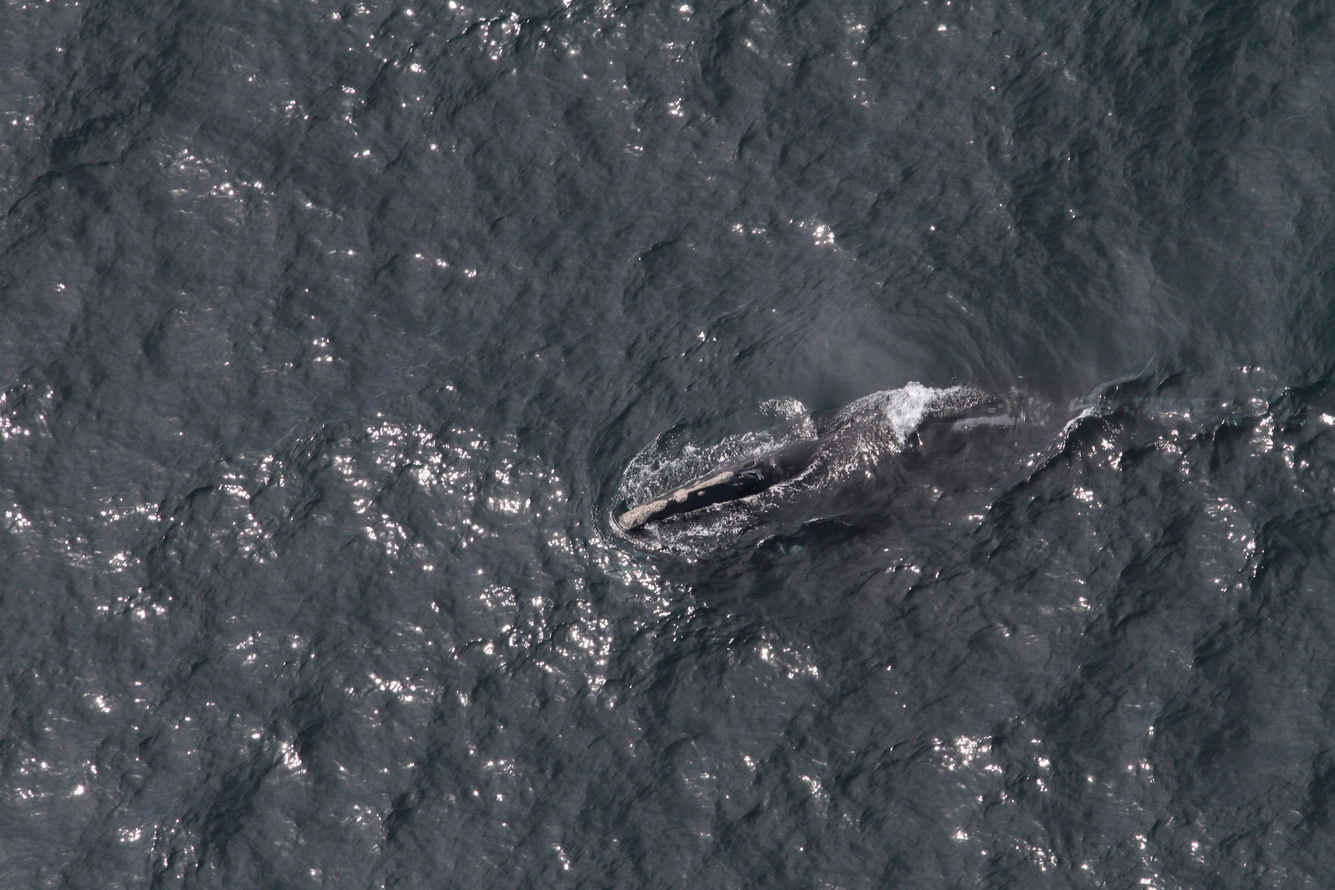whale: (602, 371, 1039, 576)
